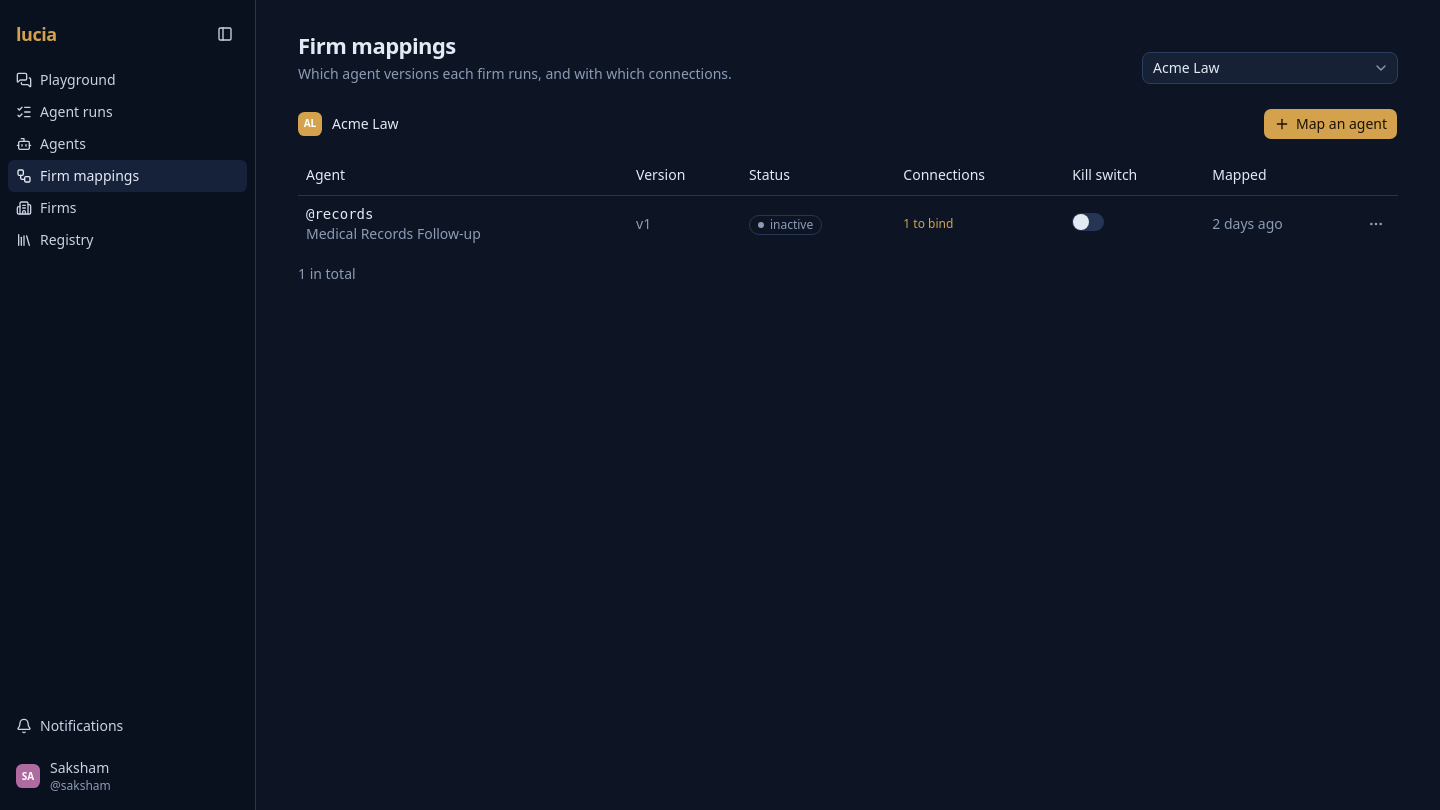
create mapping › maps without turning on, sending the partial bindings
Click the button "Map an agent". click: (1330, 124)
box: [1263,108,1398,140]
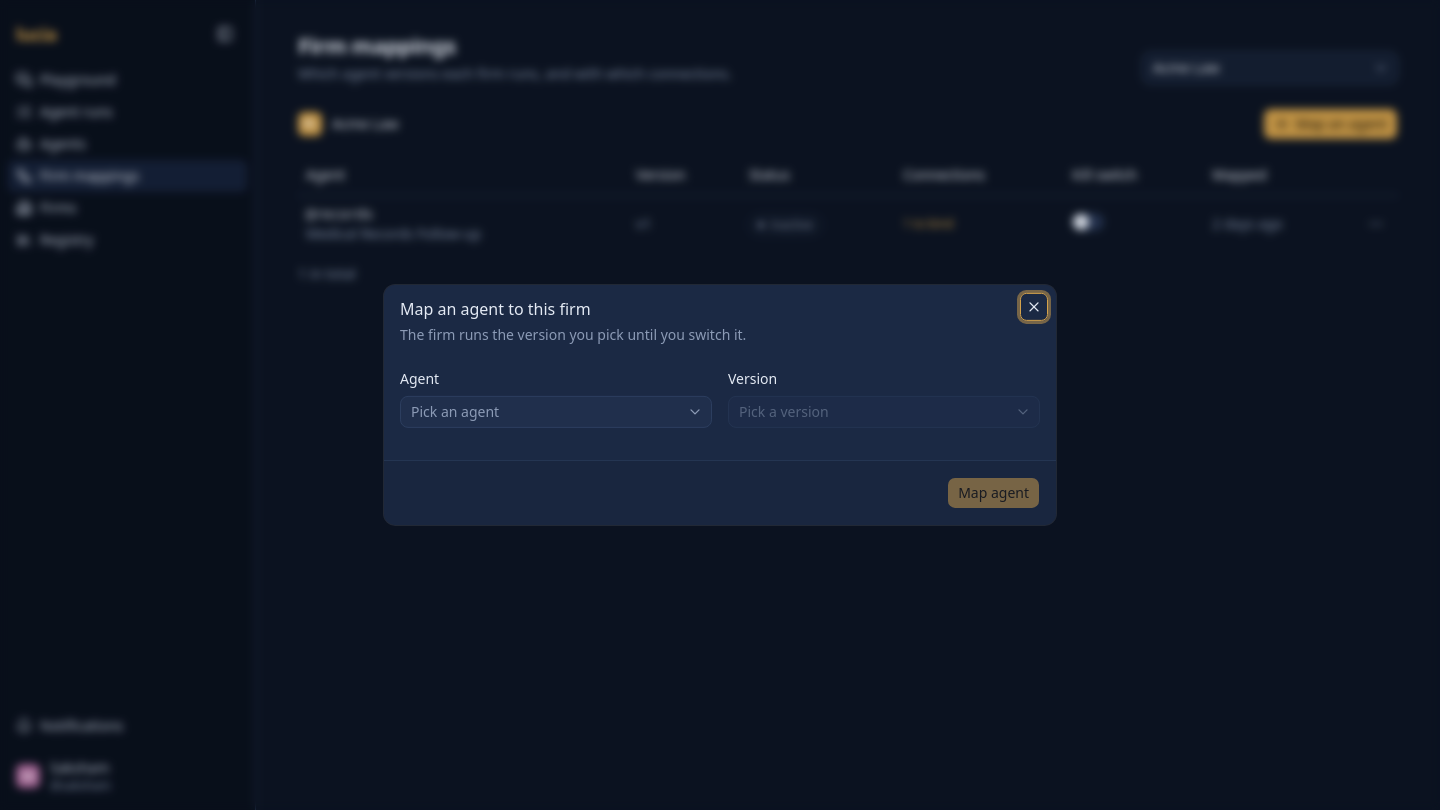
Click the dropdown labelled "agent". click: (455, 412)
box: [400,396,712,428]
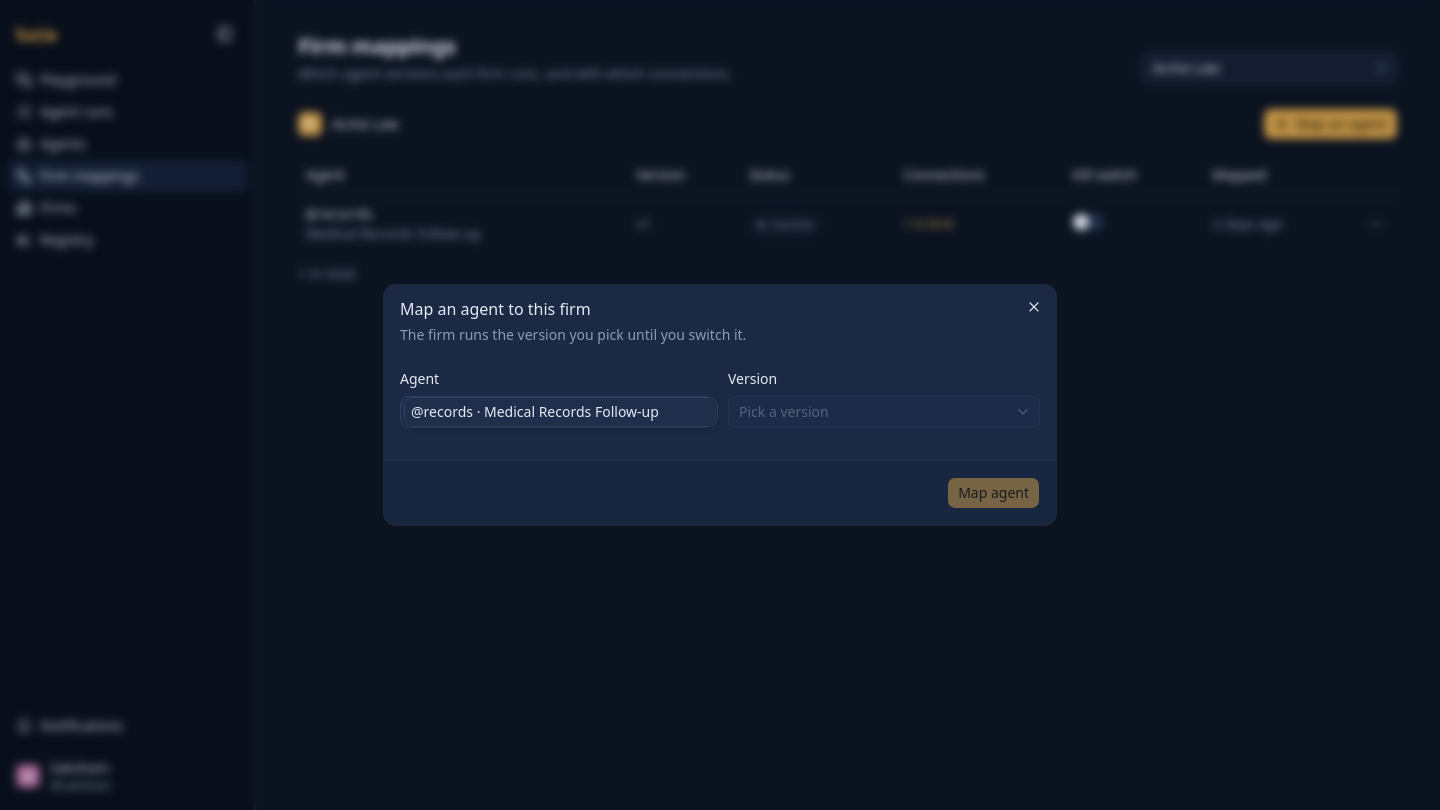
Click the option "@records · Medical Records Follow-up". click: (561, 412)
box: [405,398,717,426]
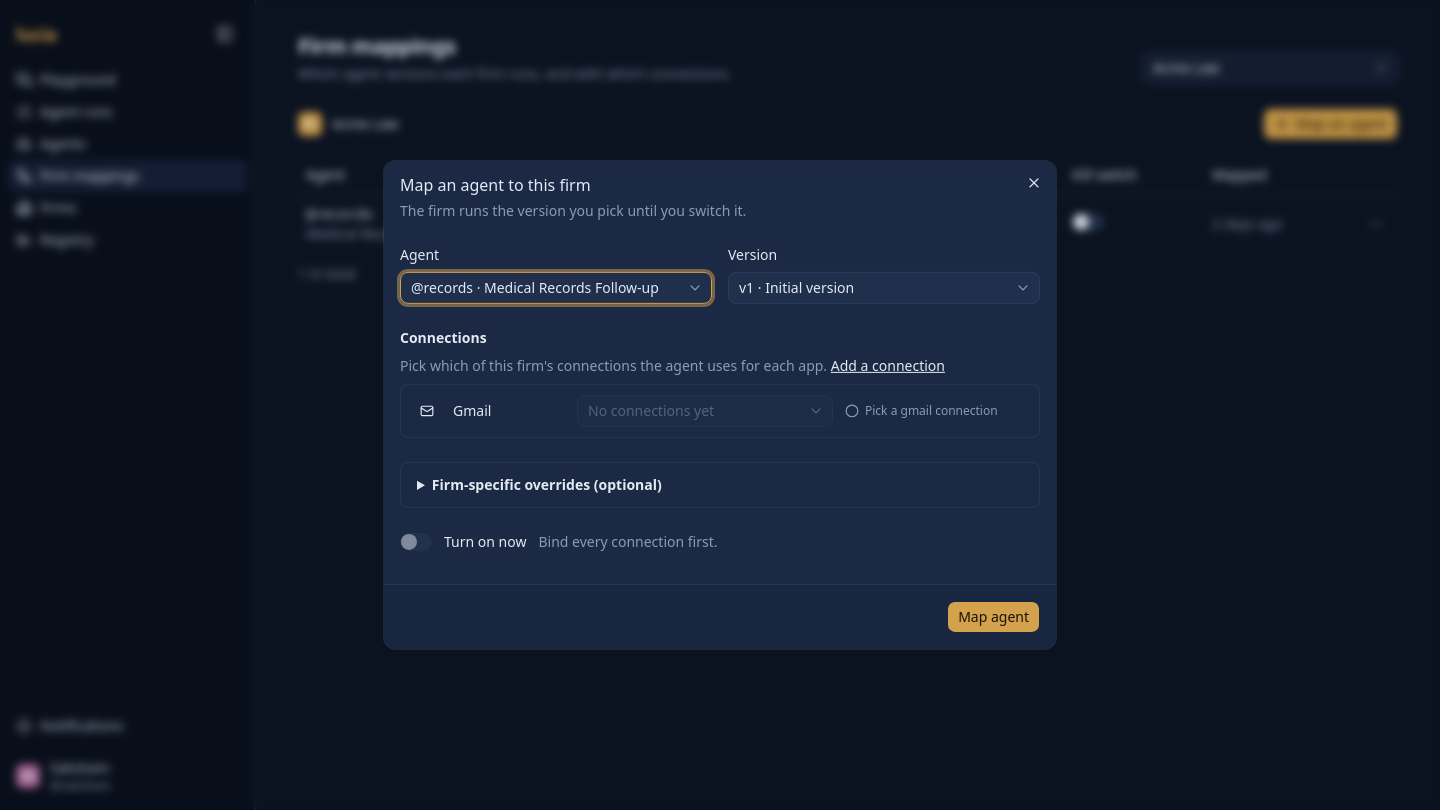
Expected: the text "Pick a gmail connection" is shown, [845,403,998,419]
Click the button "Map agent". click: (994, 617)
box: [947,601,1040,633]
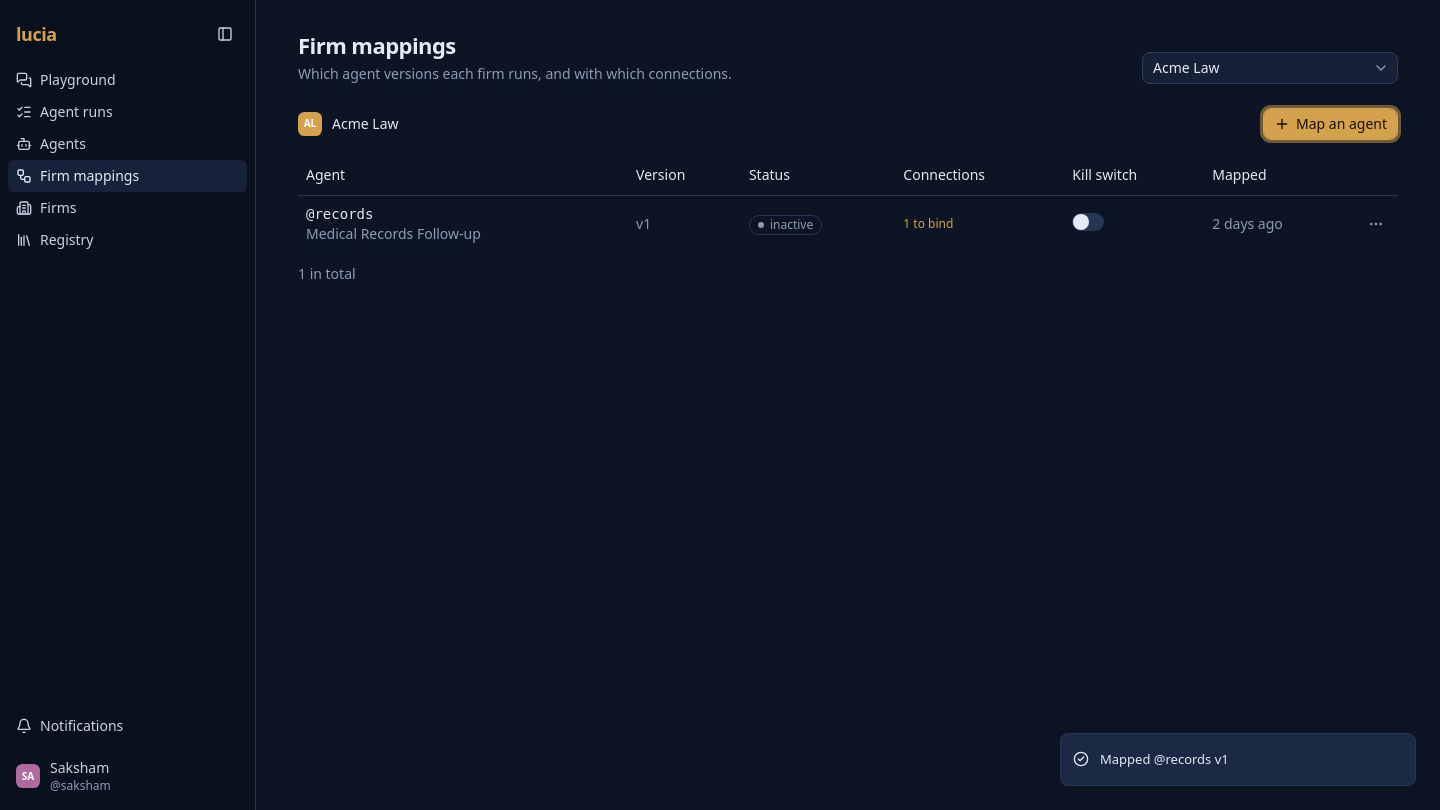
Expected: the text "Mapped @records v1" is shown, [1100,750,1229,769]
